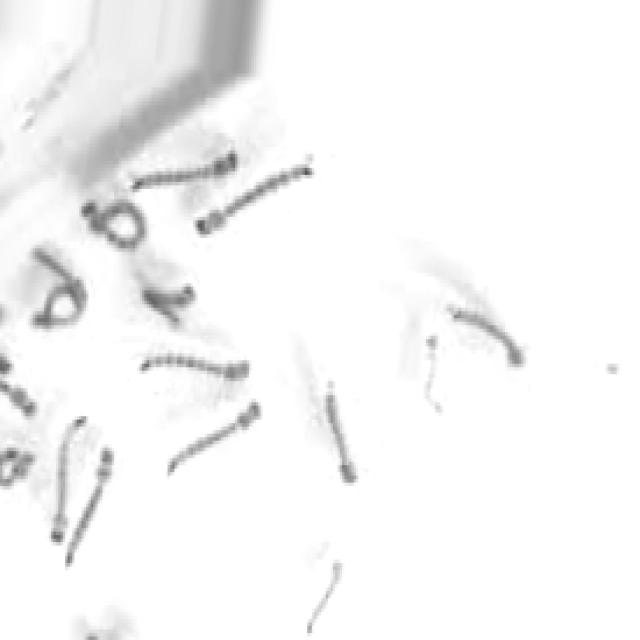larvas: (193, 150, 317, 247), (162, 394, 266, 490), (60, 448, 121, 574), (449, 297, 529, 376), (46, 410, 90, 548), (133, 142, 238, 196), (314, 375, 362, 488), (82, 201, 147, 251), (140, 356, 255, 382), (313, 562, 344, 631), (0, 358, 36, 415), (33, 285, 83, 326), (143, 287, 195, 321), (423, 332, 445, 411), (37, 247, 74, 279), (0, 447, 32, 483)
